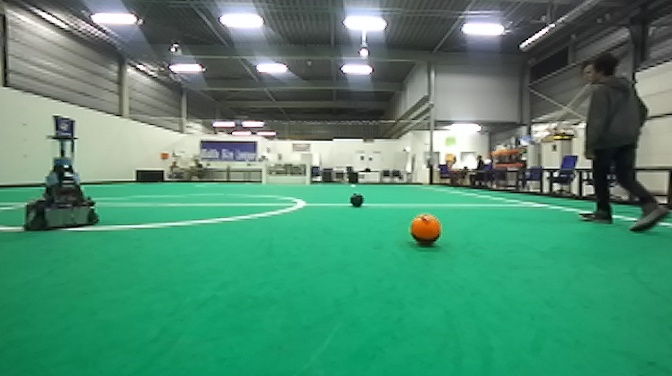ball: (408, 210, 443, 248), (347, 190, 367, 208)
goal: (261, 161, 312, 188)
goalpost: (305, 160, 311, 188), (260, 162, 266, 187)
human: (576, 49, 672, 238)
robot: (19, 112, 104, 235)
